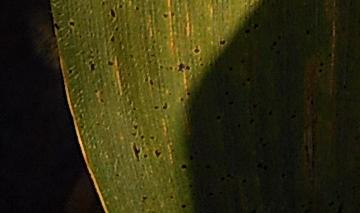tarspot: (129, 140, 143, 163), (174, 61, 192, 75), (254, 158, 268, 171), (107, 5, 118, 21), (225, 61, 237, 75), (239, 172, 251, 186), (314, 64, 328, 76), (51, 21, 64, 33), (213, 110, 225, 123), (87, 56, 96, 72), (242, 25, 253, 38), (247, 101, 260, 112), (152, 147, 163, 159), (138, 191, 150, 202), (224, 96, 235, 108), (288, 113, 299, 125), (146, 133, 159, 143), (278, 168, 288, 181), (178, 159, 187, 173), (105, 57, 116, 68), (150, 101, 161, 112), (111, 23, 122, 34), (216, 37, 228, 47), (266, 105, 275, 118), (186, 151, 195, 164), (208, 58, 217, 71), (114, 168, 122, 182), (68, 18, 78, 29), (191, 44, 201, 55), (252, 20, 262, 31), (128, 121, 139, 131), (203, 161, 213, 172), (256, 133, 267, 143), (302, 26, 311, 38), (314, 58, 326, 67), (162, 10, 171, 22), (246, 114, 255, 126), (274, 45, 282, 58), (107, 34, 116, 45), (275, 31, 284, 42), (156, 63, 167, 72), (161, 98, 168, 112), (132, 3, 141, 13), (178, 200, 188, 209), (184, 88, 193, 98), (66, 66, 75, 75), (147, 79, 157, 87), (242, 75, 252, 83), (218, 173, 227, 181)
